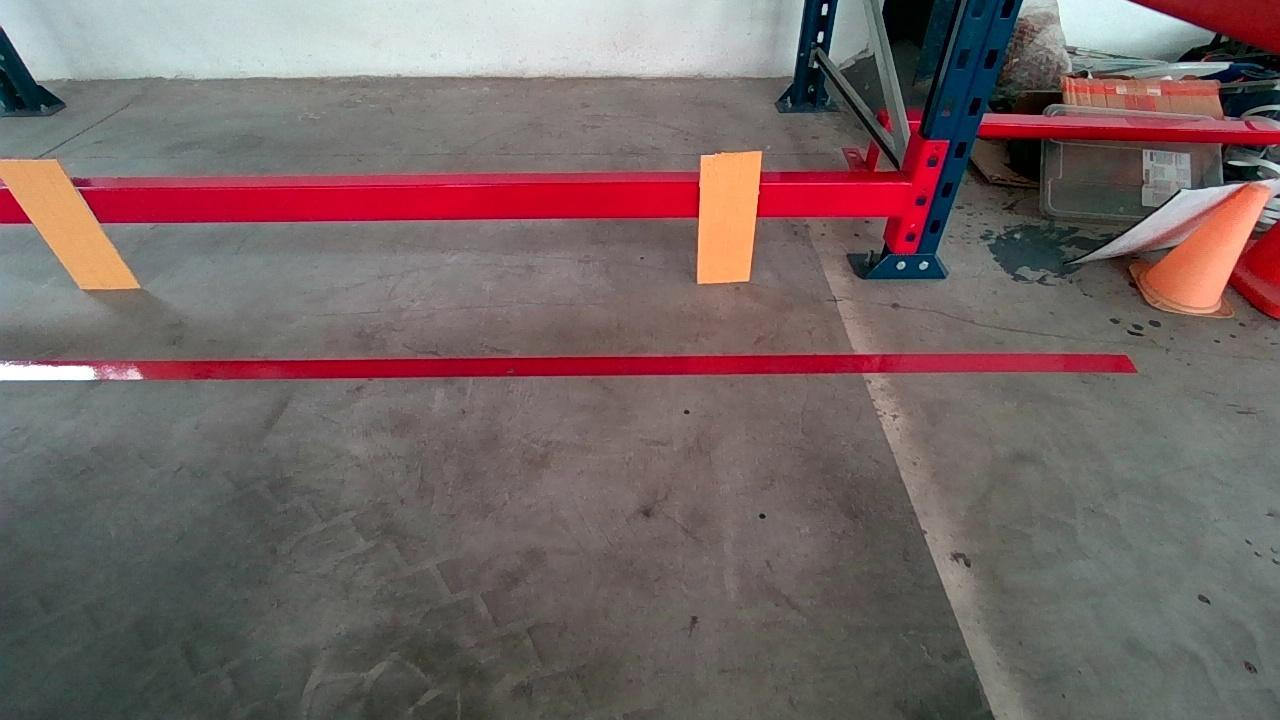h_rack: (8, 176, 908, 226)
orange_strip: (3, 163, 136, 289), (698, 152, 759, 283)
